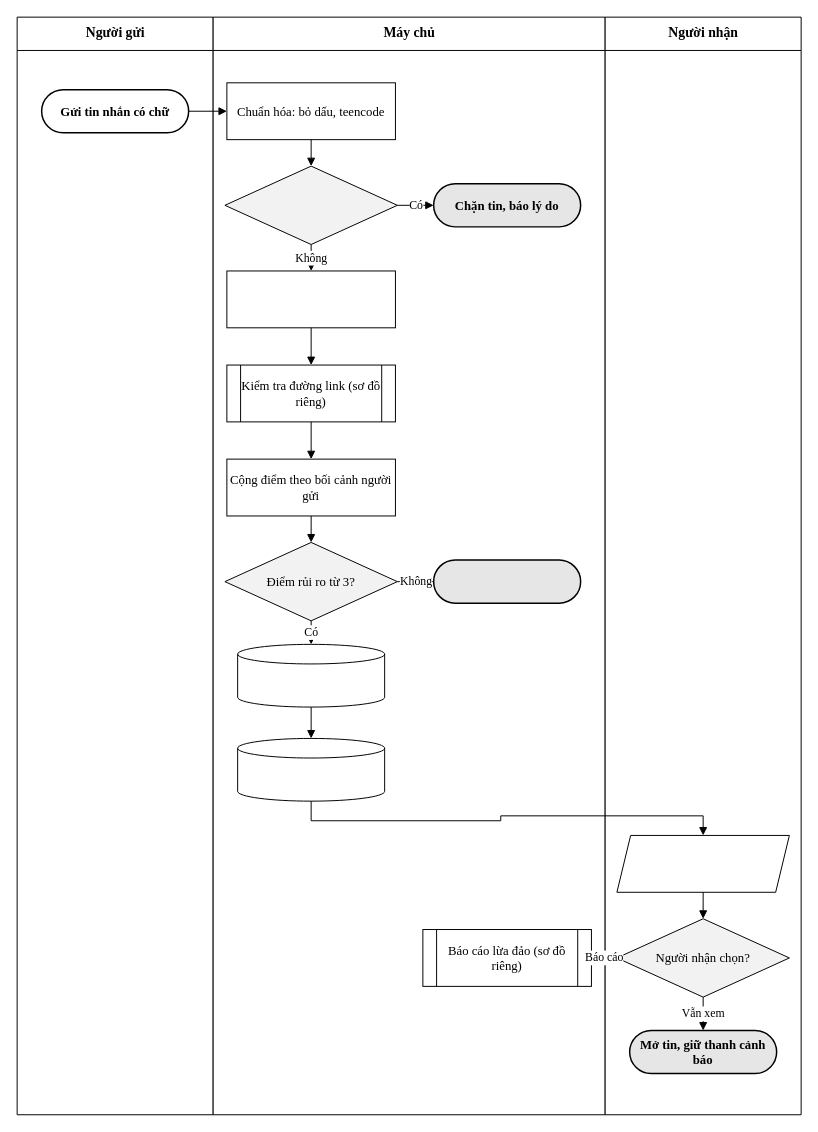
This 818x1132 diagram has some shape labels left out. The centre of each missing label's shape, as x and y in pixels:
Dò cụm từ theo 8 nhóm: the point at 310,299
Ghi SafetyEvent cho người gửi: the point at 311,769
Hạn chế và có liên lạc?: the point at 310,205
Lưu tin, mức rủi ro, lý do: the point at 311,675
Lưu, gửi bình thường: the point at 506,581
Thanh cảnh báo; mức cao che tin: the point at 702,863
